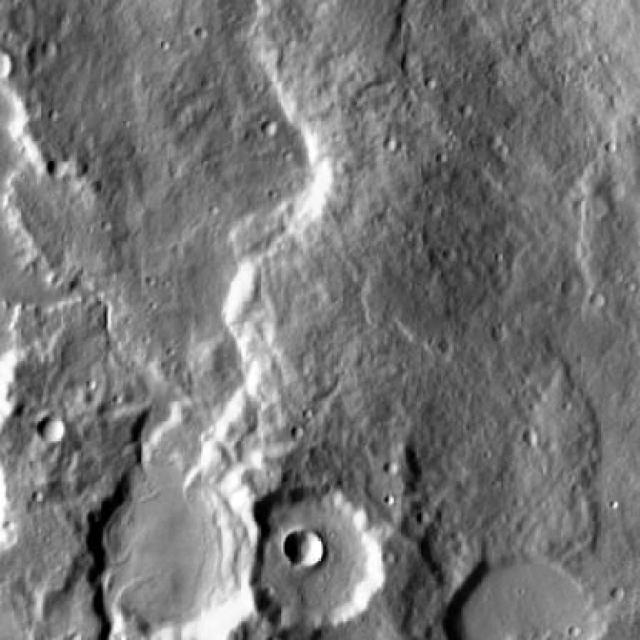crater: (97, 464, 277, 640), (249, 491, 394, 634), (464, 549, 618, 640), (299, 531, 338, 569), (0, 44, 29, 73), (60, 413, 86, 439)
